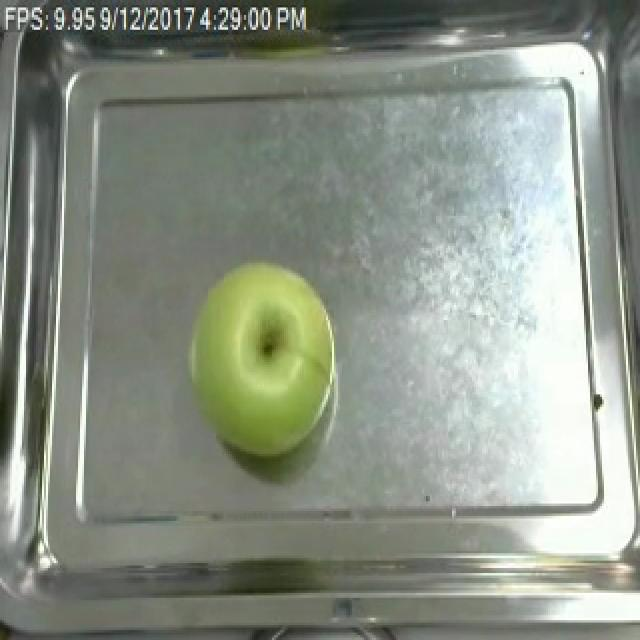50-_ripeness: (189, 252, 346, 458)
